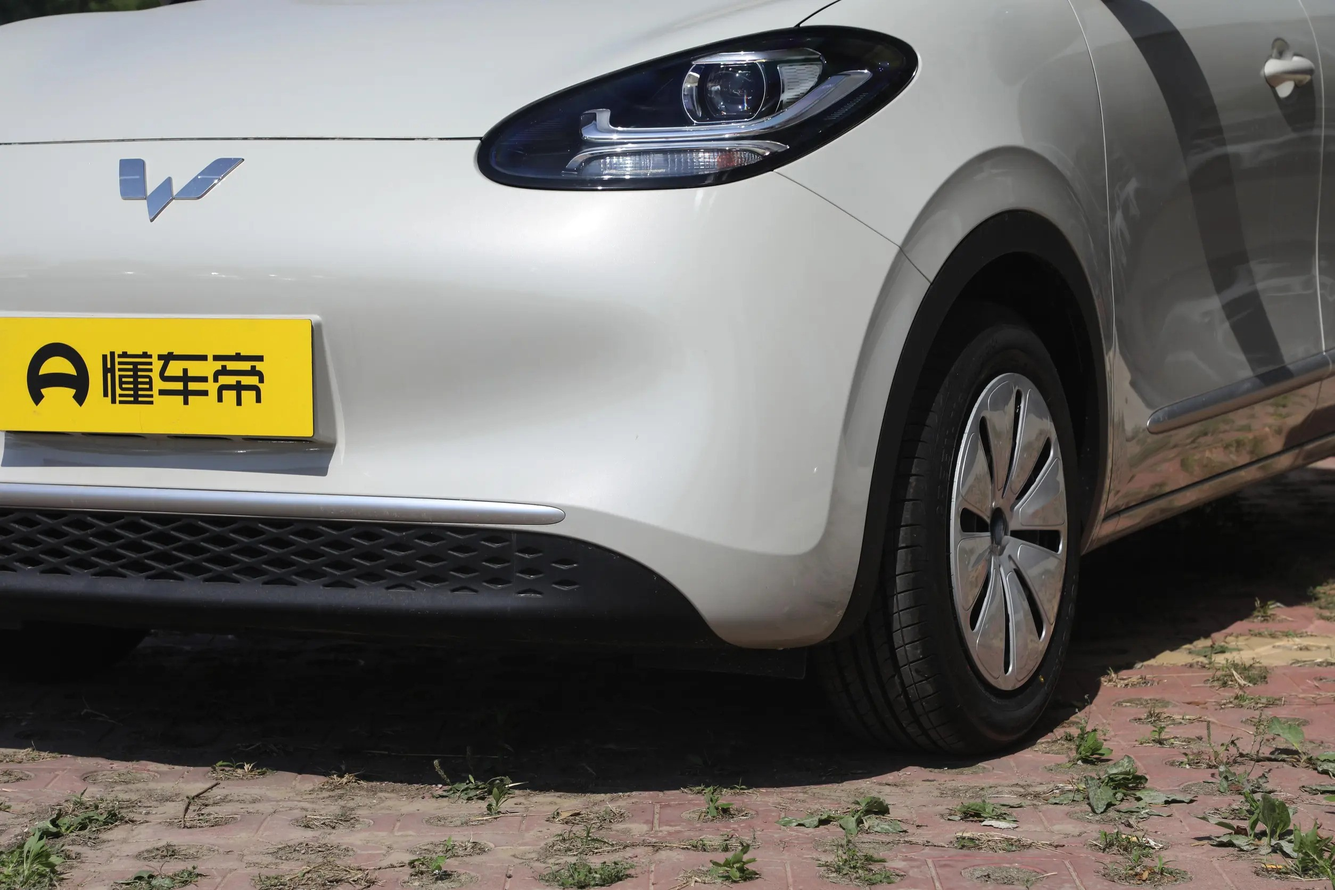SGMW: (119, 158, 244, 222)
